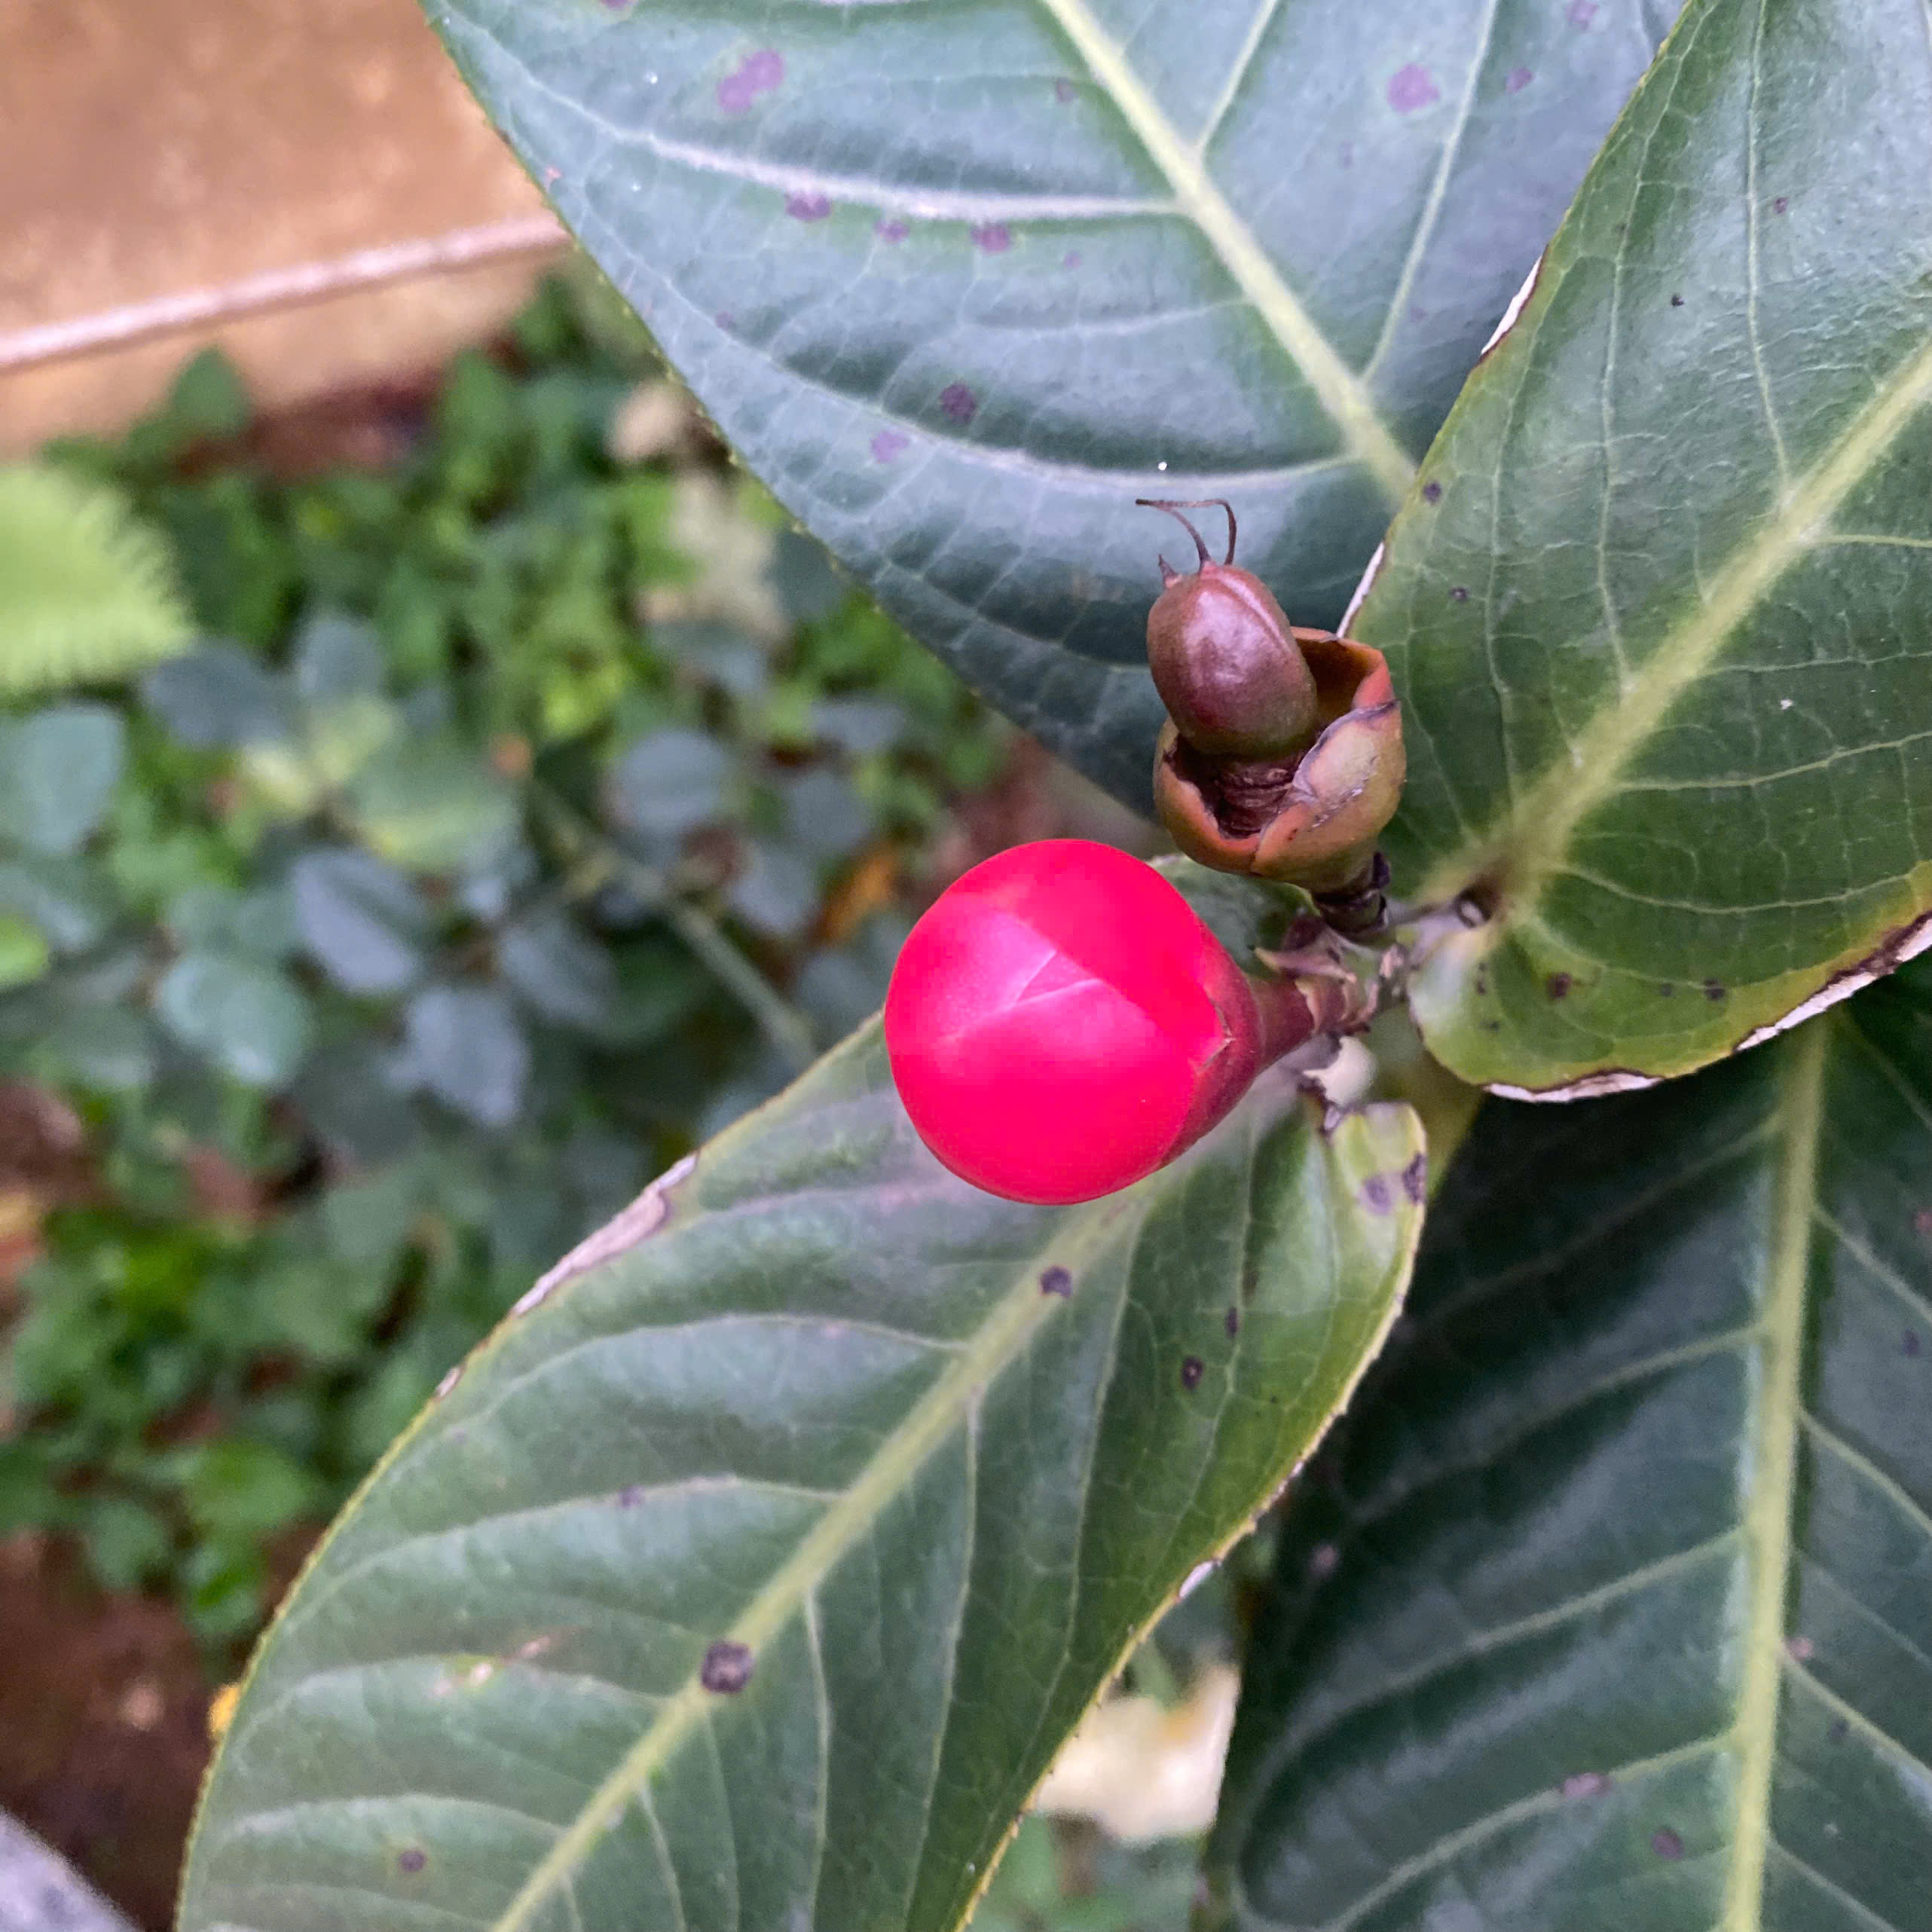hoa_hai_duong: (835, 495, 1511, 1242)
